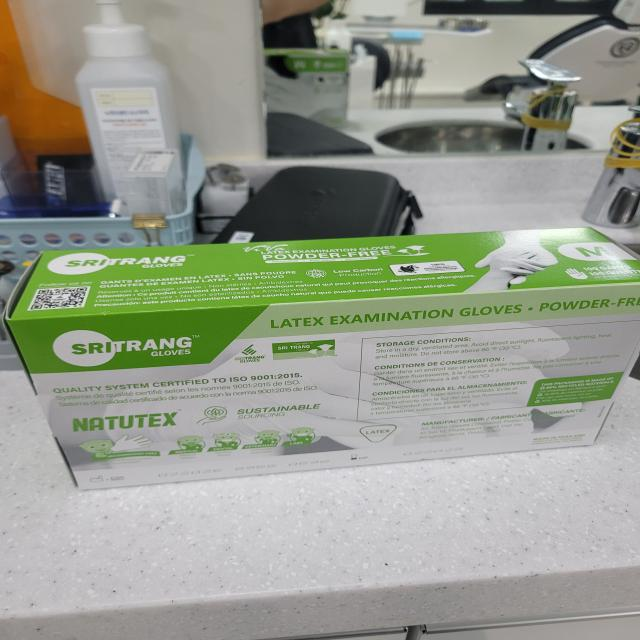glove: (9, 236, 640, 474)
